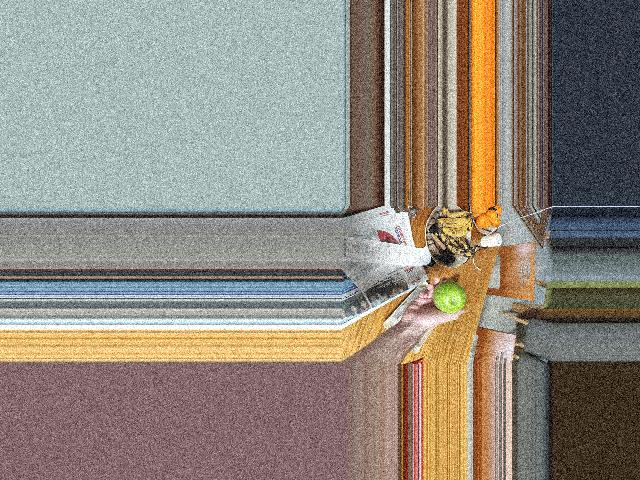apple: (431, 279, 466, 316)
